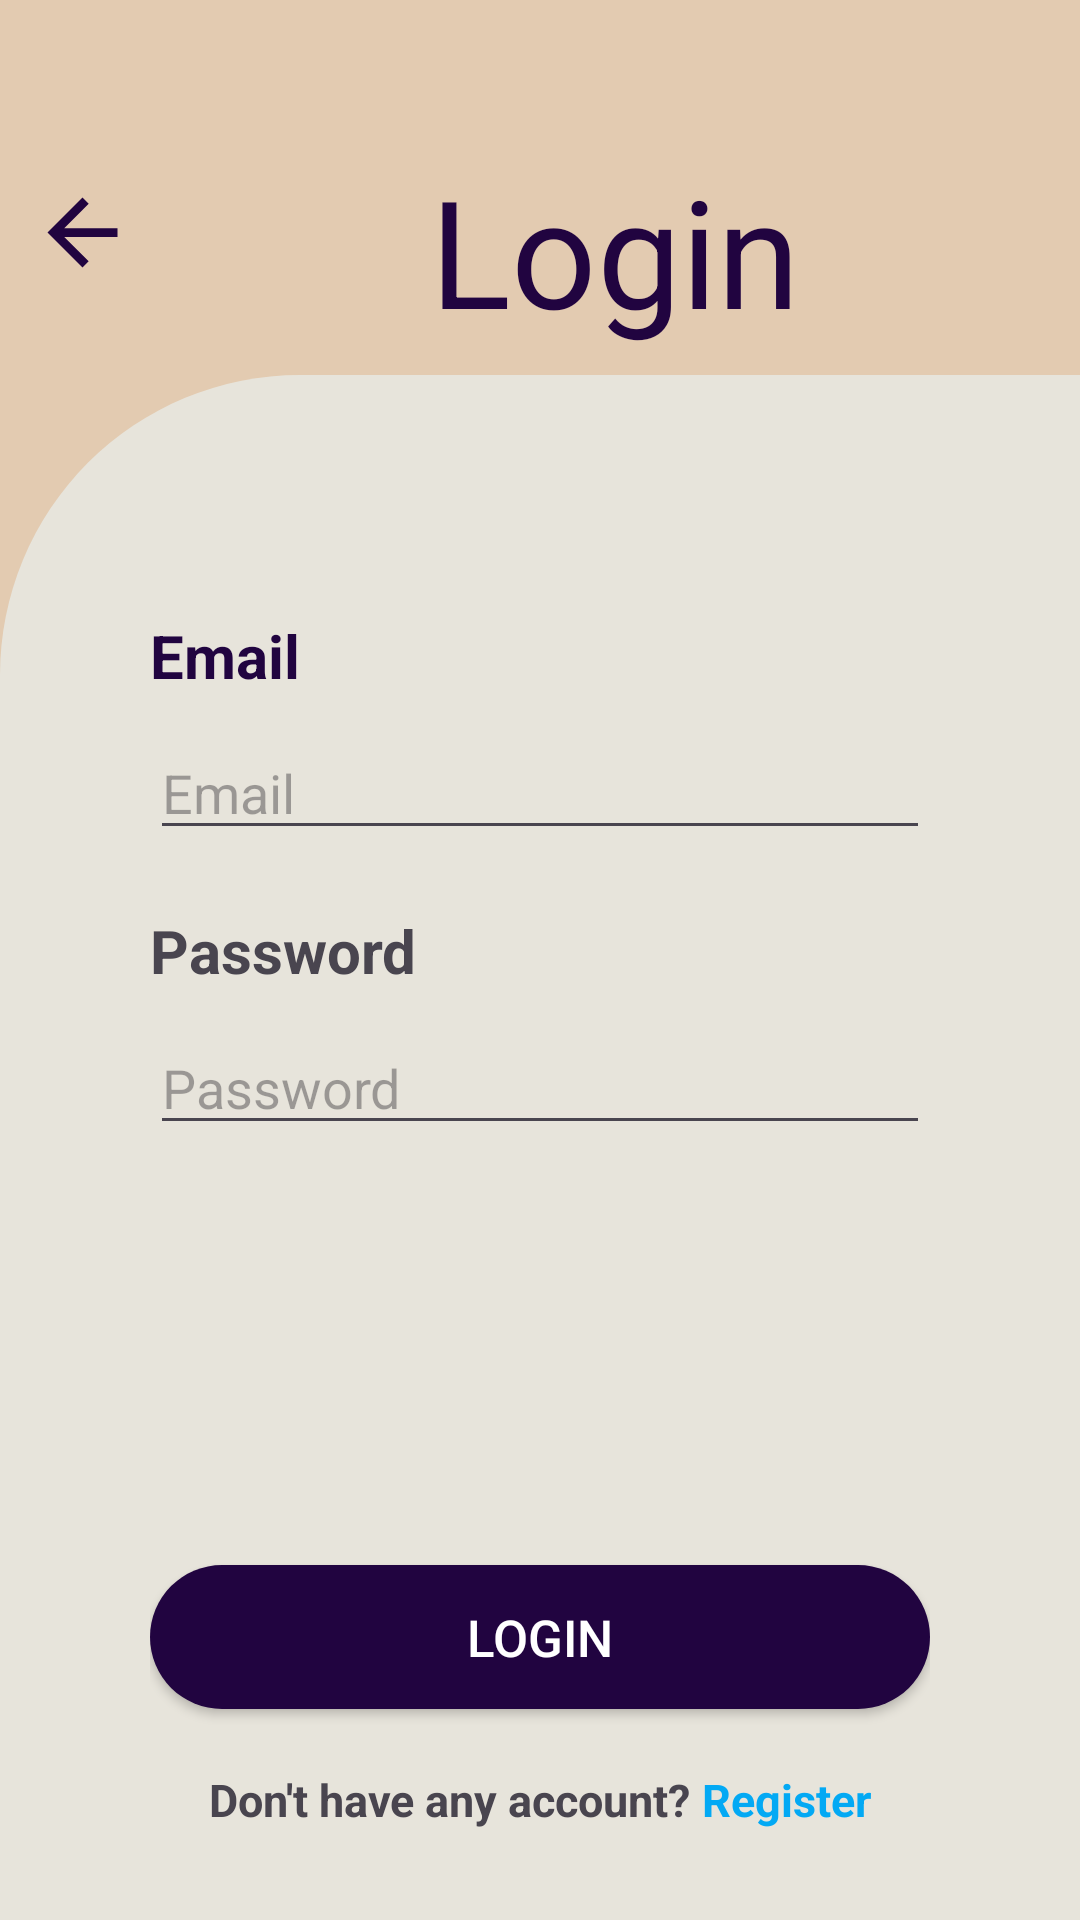

Locate icon controls on the screen. Image size 1080px x 1920px, boxes as (x1, y1, x2, y2).
arrow back: (47, 197, 118, 268)
